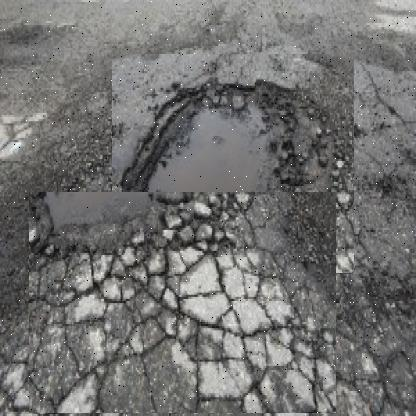crack: (29, 192, 337, 414)
pothole_water: (112, 54, 355, 274)
